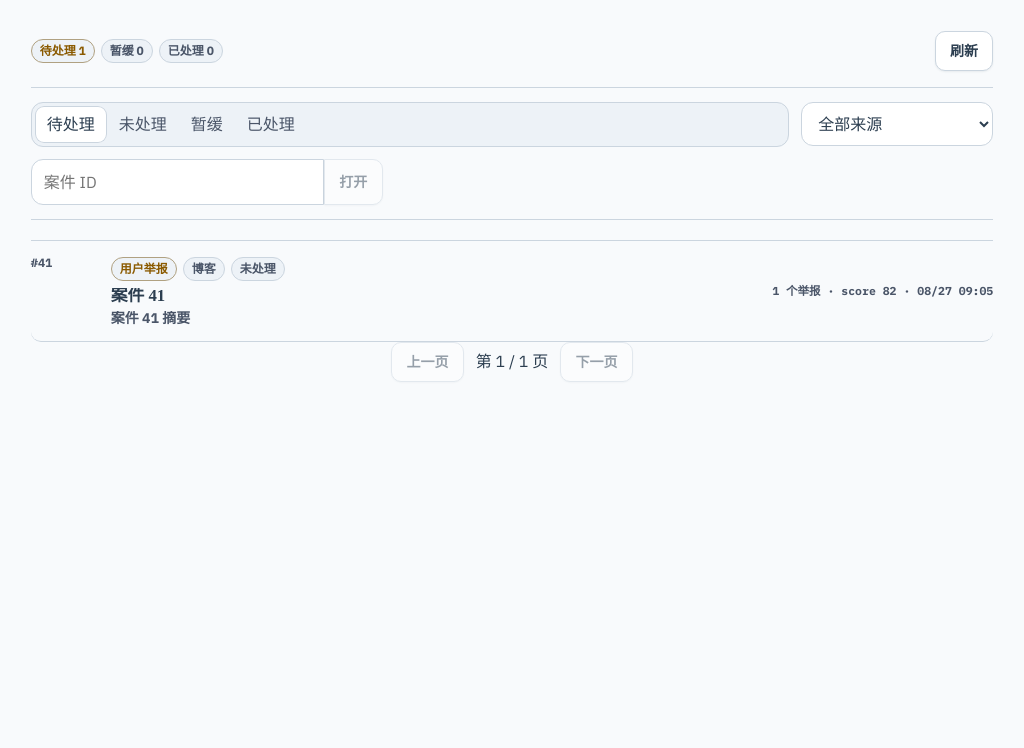
it: ReviewWorkbench › preserves the decision draft when the server reports a version conflict
This screenshot has width=1024, height=748.
Click the button "案件 41". click: (144,269)
box: [31, 241, 993, 342]
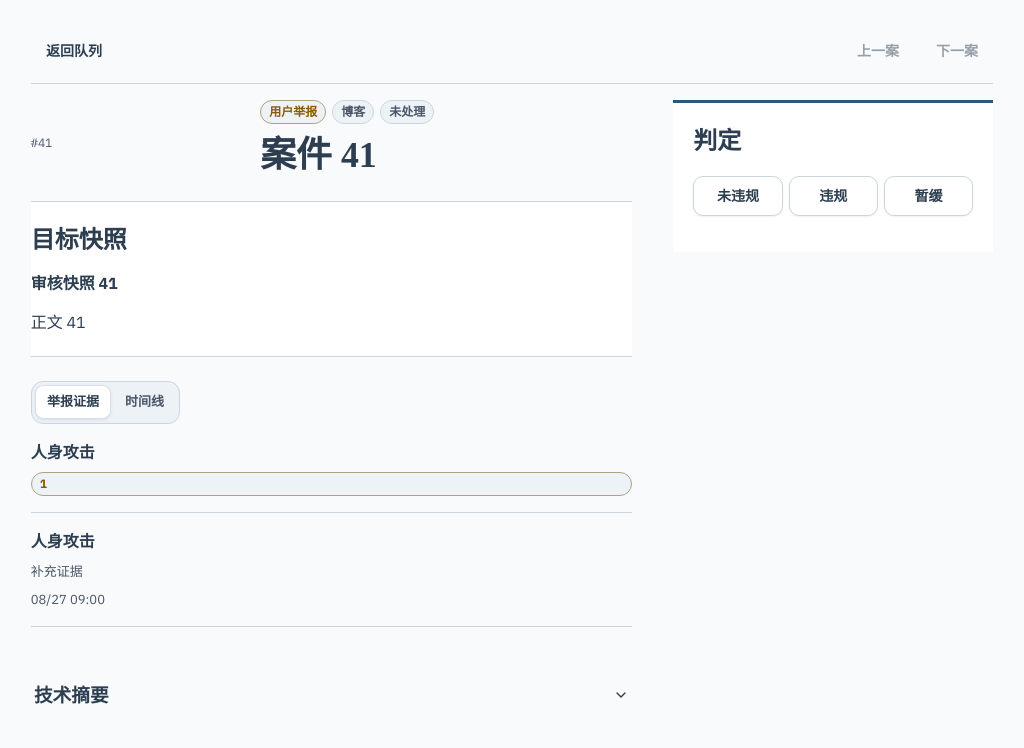
Click the button "暂缓". click: (929,196)
box: [884, 176, 973, 216]
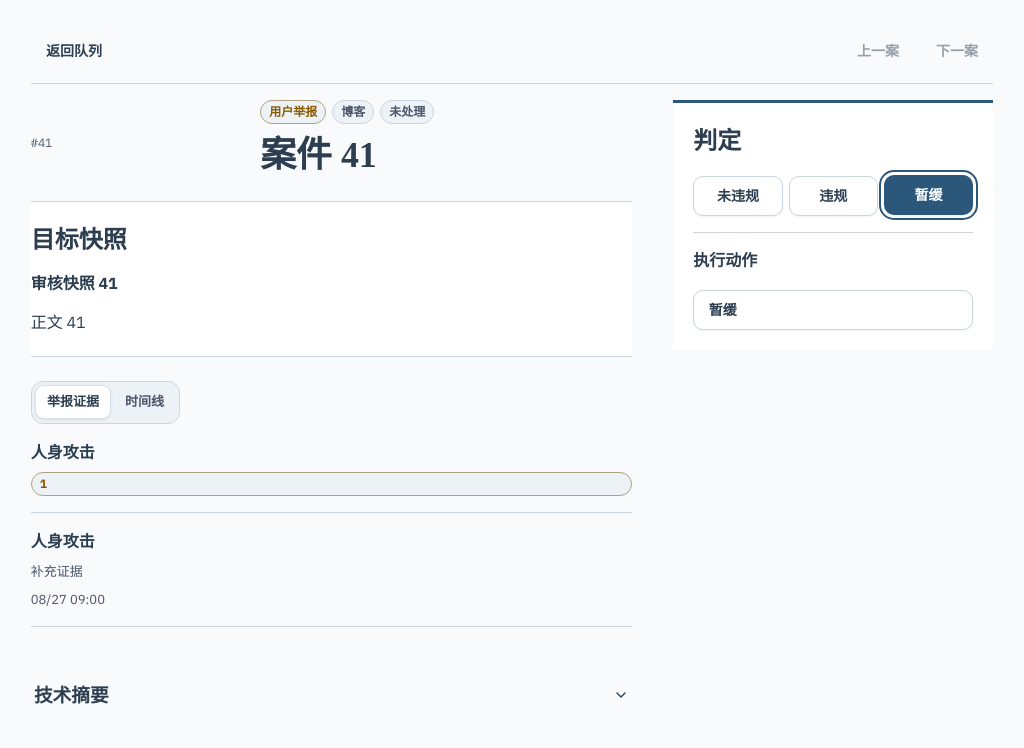
Click the 2nd button "暂缓". click: (723,310)
box: [693, 290, 973, 330]
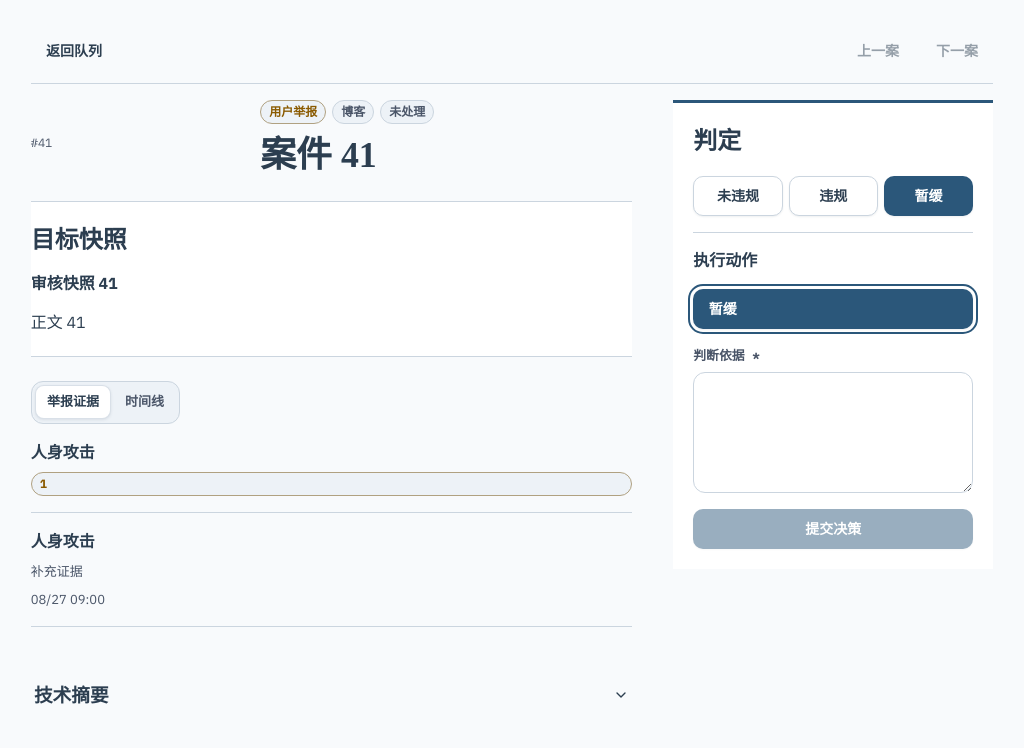
Type "等待补充上下文" into the text box labelled "判断依据 *". click: (833,432)
box: [693, 372, 973, 493]
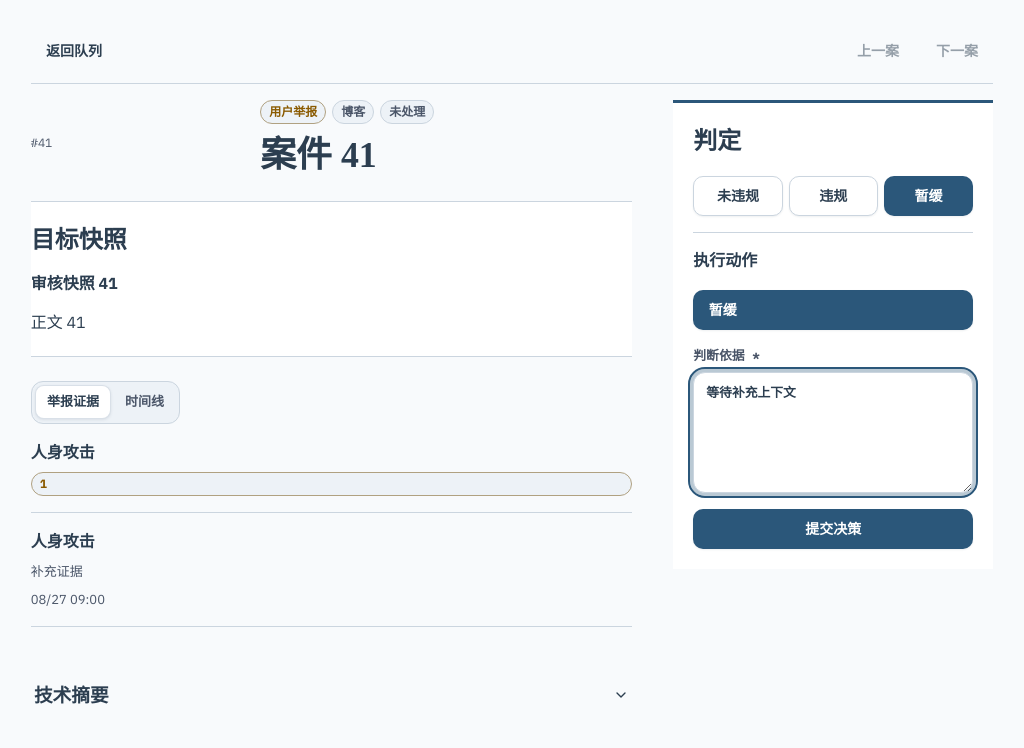
Click the button "提交决策". click: (833,529)
box: [693, 509, 973, 549]
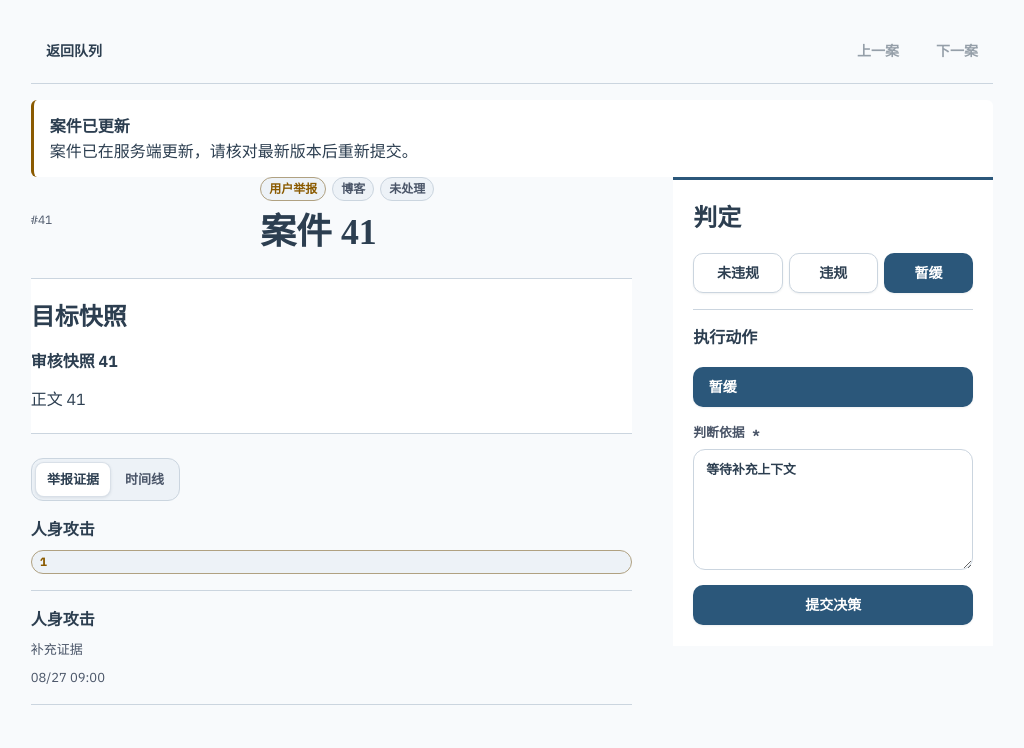
Check: the text "案件已更新" is shown, box [50, 116, 130, 136]
